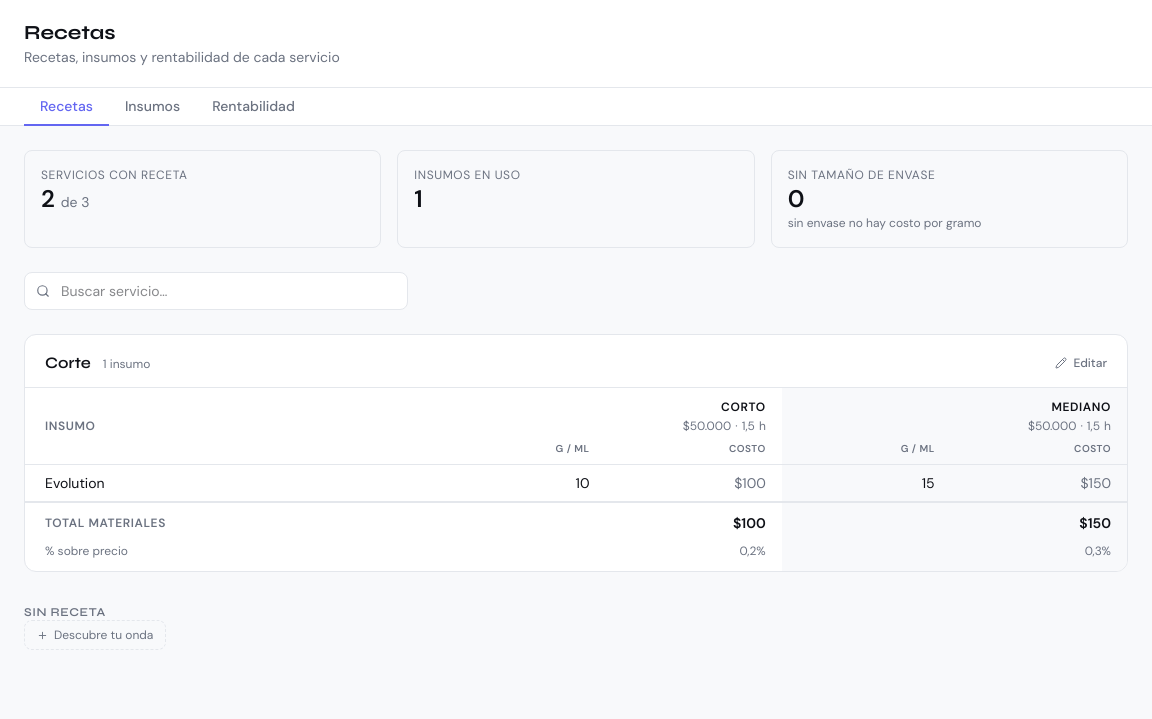
Test case: RecipesPage › opens an empty card in edit mode from the "Sin receta" chips
Click the button "Descubre tu onda". click: (95, 635)
box: [24, 620, 166, 650]
(page scrolled)
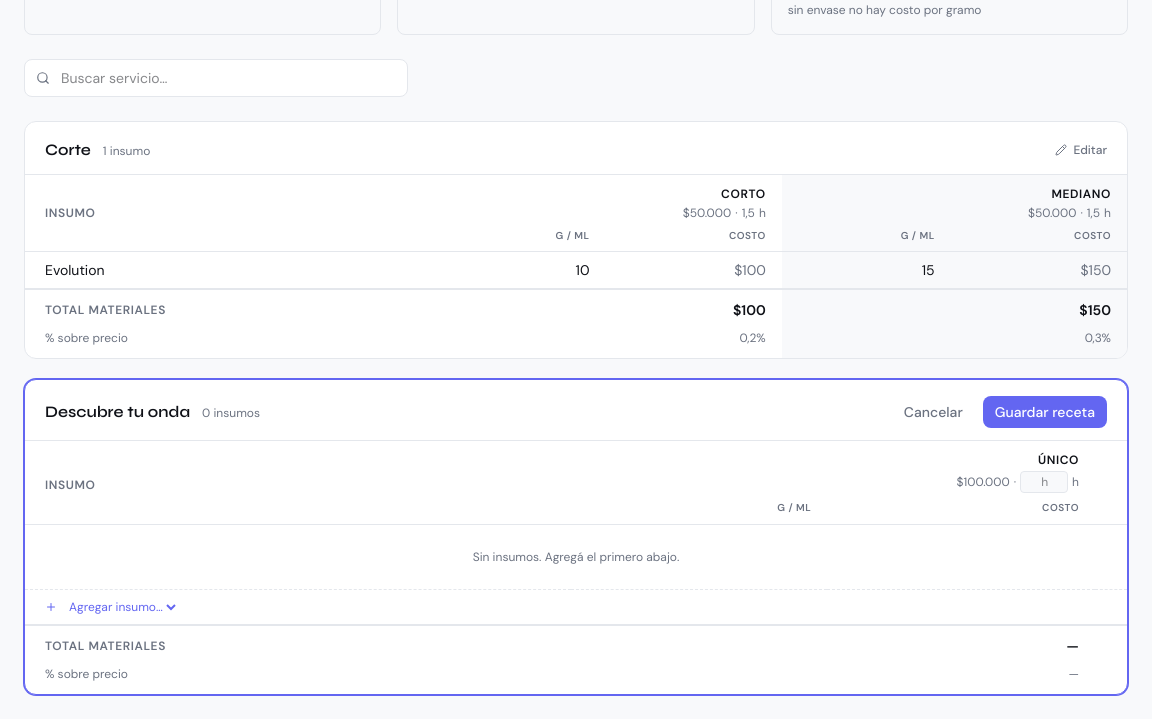
Result: the button "Guardar receta" is shown at [983, 396, 1107, 428]
Result: the text "Sin insumos. Agregá el primero abajo." is shown at [25, 524, 1127, 589]
